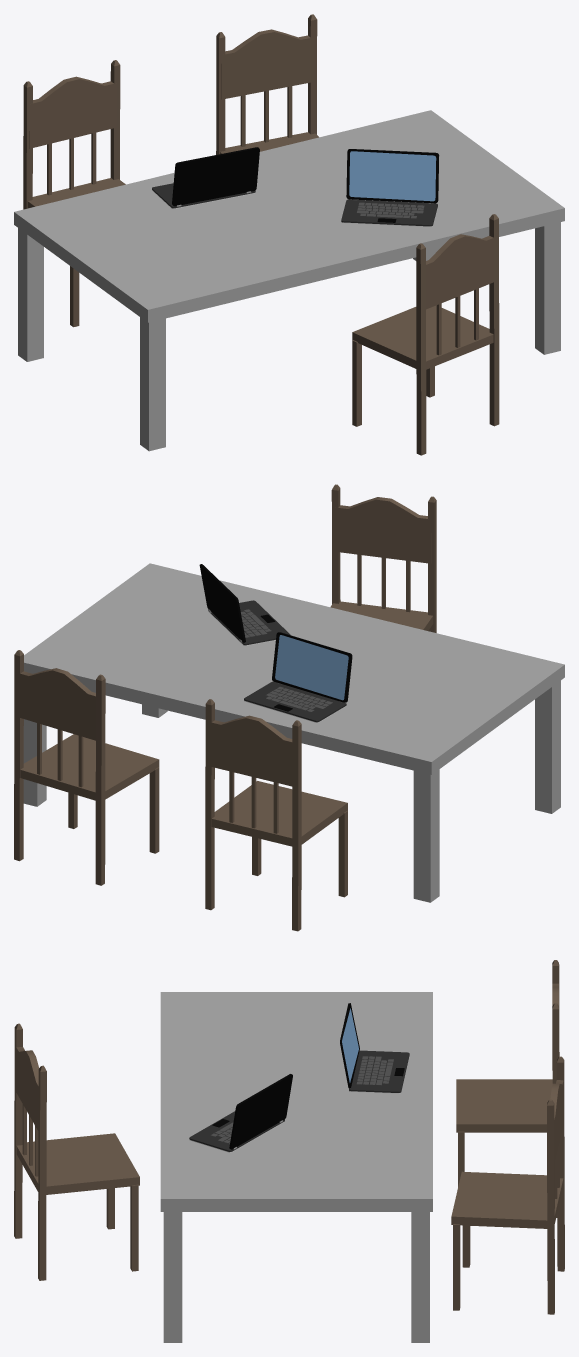
Rendered from table ordi.fbx.
3 views of the same model, one above another, from view 1: azimuth 30°, elevation 25°; view 2: azimuth 150°, elevation 25°; view 3: azimuth 270°, elevation 25° (orthographic). The views are drawn at different scales.
Parts seen in each view (by area): view 1: table_ordi; view 2: table_ordi; view 3: table_ordi.
Boxes of the visible parts, x1,y1,x2,y2 form: table_ordi: (14, 14, 564, 455); table_ordi: (14, 484, 564, 931); table_ordi: (14, 960, 564, 1342).
Bounding box in the file's own units: 2.46 × 1.19 × 2.77.
